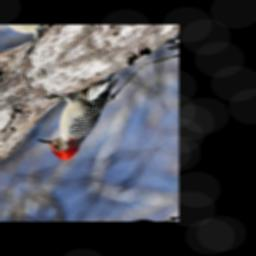Woodpecker: (17, 50, 144, 175)
